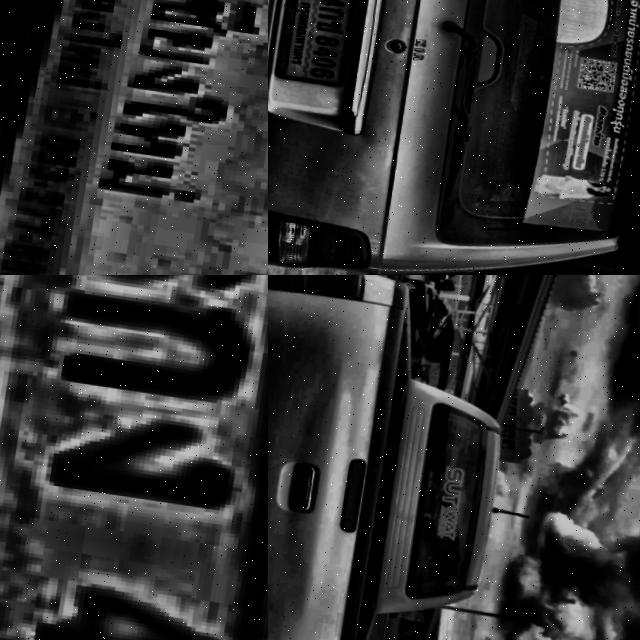license-plate: (0, 275, 268, 640), (0, 0, 268, 275), (272, 0, 361, 83)
